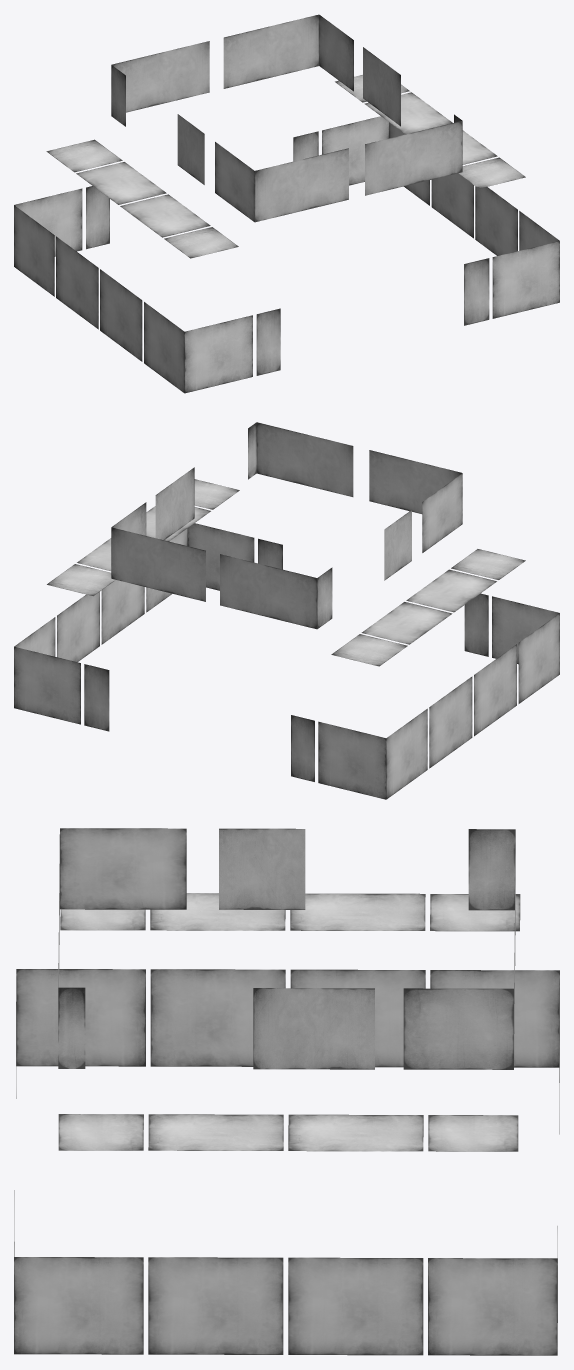
The model's file is SM_HK_Windows_00.fbx.
3 views of the same model, one above another, from view 1: azimuth 30°, elevation 25°; view 2: azimuth 150°, elevation 25°; view 3: azimuth 270°, elevation 25° (orthographic). The views are drawn at different scales.
Parts seen in each view (by area): view 1: SM_HK_Windows_00; view 2: SM_HK_Windows_00; view 3: SM_HK_Windows_00.
Part boxes in pixels (bbox=[...]): SM_HK_Windows_00: bbox=[14, 14, 559, 393]; SM_HK_Windows_00: bbox=[14, 422, 559, 799]; SM_HK_Windows_00: bbox=[14, 828, 559, 1355].
Size of the model in its own units: 1701 by 829 by 1356.
